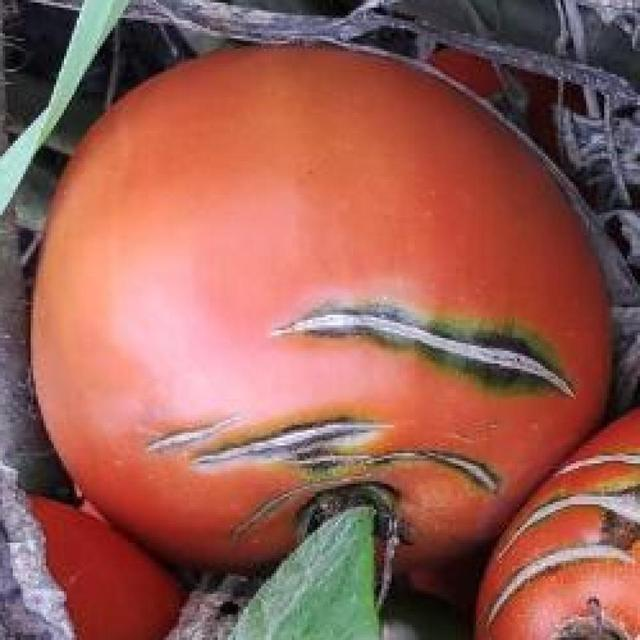Cracking Fruit: (63, 17, 395, 395)
